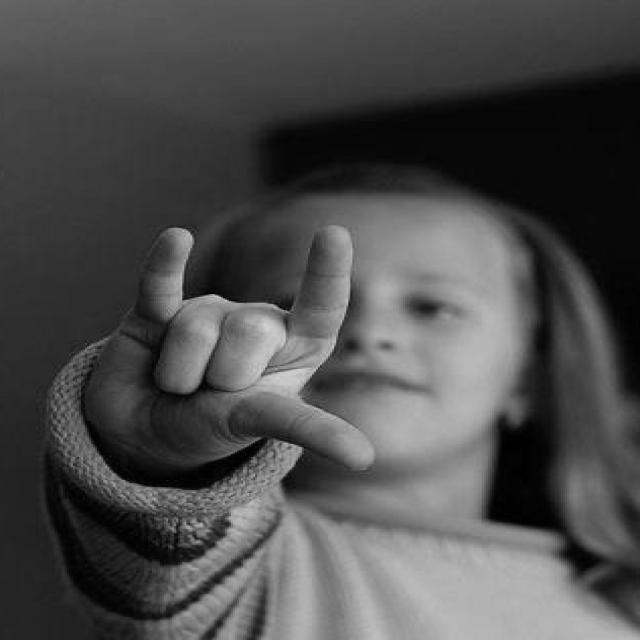i love you: (76, 216, 382, 491)
